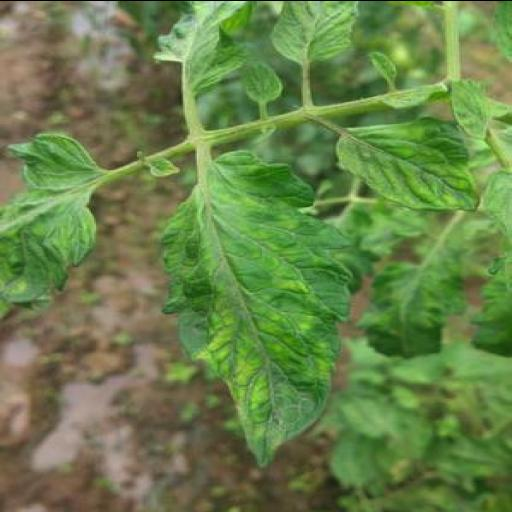disease_tomato: (154, 142, 358, 470), (0, 129, 102, 329), (320, 112, 482, 218)
